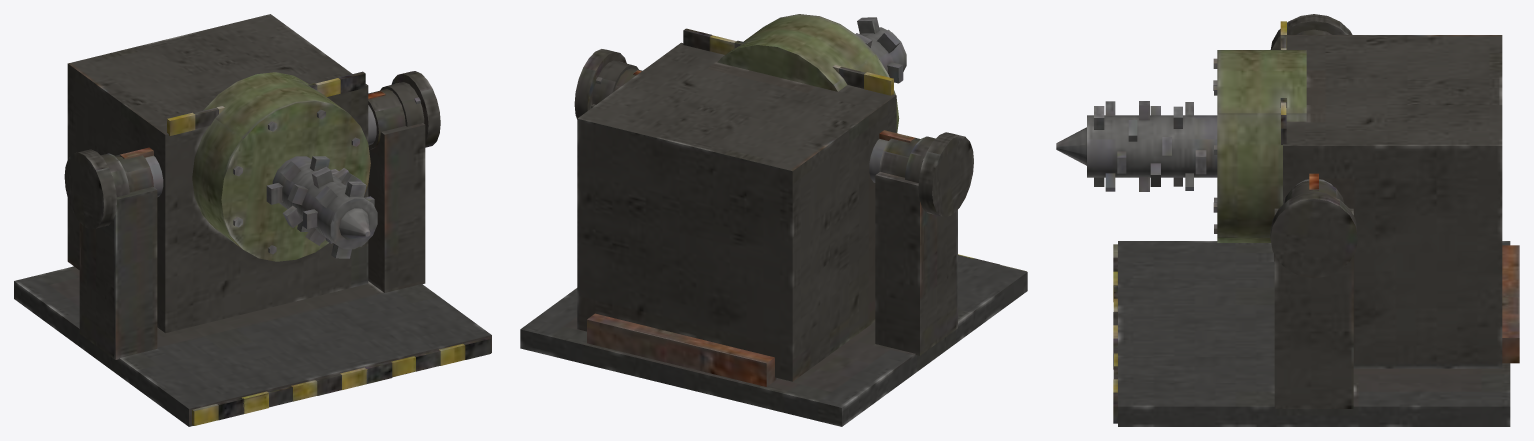
The model's file is feMechDrill.glb.
The picture shows the model from 3 angles, left to right: view 1: azimuth 30°, elevation 25°; view 2: azimuth 150°, elevation 25°; view 3: azimuth 270°, elevation 25°; orthographic projection. The views are drawn at different scales.
Parts seen in each view (by area): view 1: feMechDrill_Base, FeSpin_x2_Bit, FeSpin_DriveShaft; view 2: feMechDrill_Base, FeSpin_DriveShaft, FeSpin_x2_Bit; view 3: feMechDrill_Base, FeSpin_x2_Bit, FeSpin_DriveShaft.
Boxes of the visible parts, x1=… form: feMechDrill_Base: x1=14, y1=14, x2=491, y2=426; FeSpin_x2_Bit: x1=266, y1=156, x2=377, y2=258; FeSpin_DriveShaft: x1=64, y1=71, x2=440, y2=229; feMechDrill_Base: x1=520, y1=14, x2=1027, y2=426; FeSpin_DriveShaft: x1=574, y1=49, x2=973, y2=217; FeSpin_x2_Bit: x1=855, y1=17, x2=906, y2=83; feMechDrill_Base: x1=1113, y1=21, x2=1519, y2=426; FeSpin_x2_Bit: x1=1056, y1=101, x2=1217, y2=191; FeSpin_DriveShaft: x1=1270, y1=14, x2=1357, y2=278.
Bounding box in the file's own units: 1 × 0.723 × 1.06.
1 material, 1 textured.
